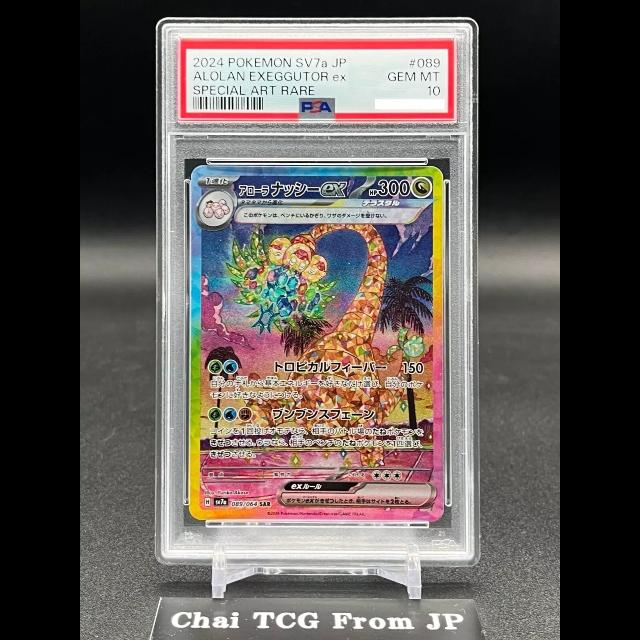card: (189, 165, 445, 521)
psa_label: (179, 39, 455, 120)
psa_slab: (154, 17, 481, 567)
